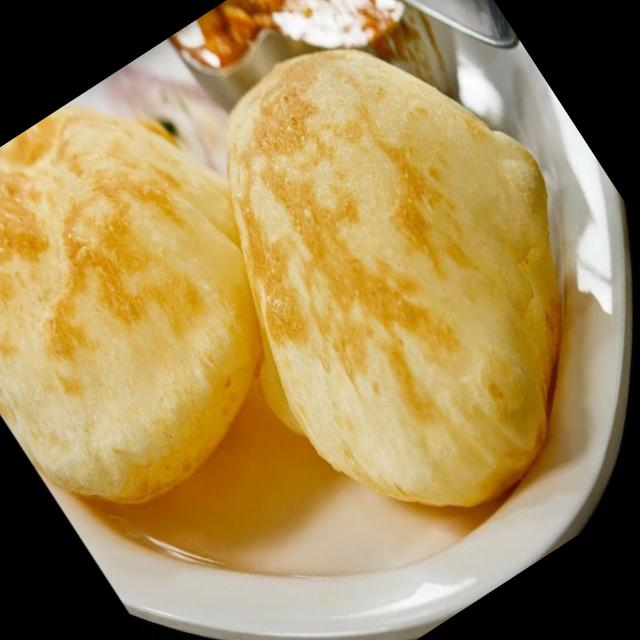Bhatura: (110, 0, 640, 573), (0, 56, 343, 540)
